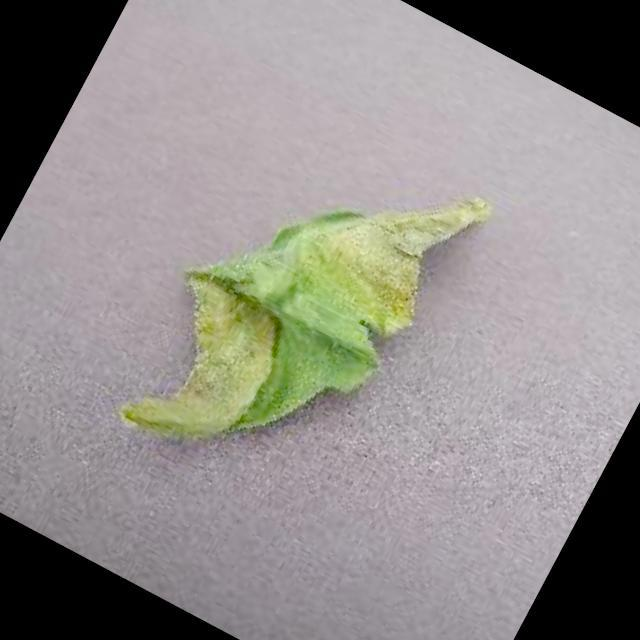Tomato late blight leaf: (112, 99, 490, 528)
